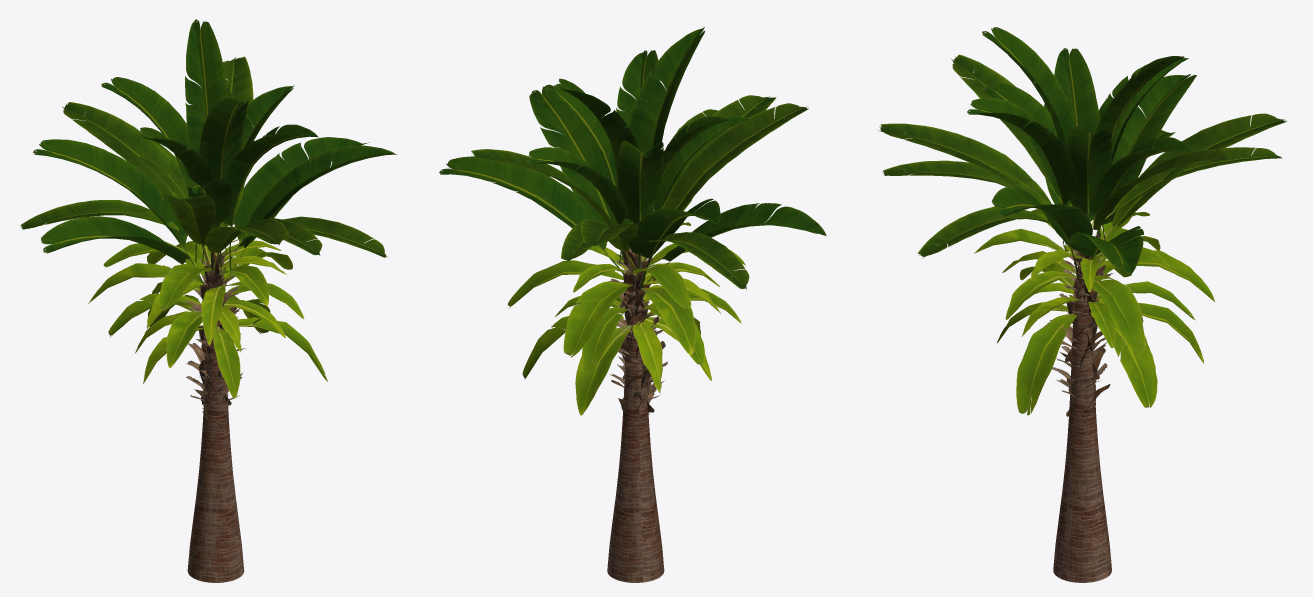
The model's file is e4banana.glb.
3 views of the same model, side by side, from view 1: azimuth 30°, elevation 25°; view 2: azimuth 150°, elevation 25°; view 3: azimuth 270°, elevation 25° (orthographic). The views are drawn at different scales.
Visible parts, largest first — view 1: Cylinder_Huge_Banana_Tree_sl0no0p_0, Cylinder_Banana_Leaves_pgfhf2_0, Cylinder_Huge_Banana_slpmfhp_0, Cylinder_Palm_Bark_tiglajzdy_0, Cylinder_Dead_Fan_sdbcdah2_0; view 2: Cylinder_Huge_Banana_Tree_sl0no0p_0, Cylinder_Banana_Leaves_pgfhf2_0, Cylinder_Huge_Banana_slpmfhp_0, Cylinder_Palm_Bark_tiglajzdy_0, Cylinder_Dead_Fan_sdbcdah2_0; view 3: Cylinder_Huge_Banana_Tree_sl0no0p_0, Cylinder_Banana_Leaves_pgfhf2_0, Cylinder_Huge_Banana_slpmfhp_0, Cylinder_Palm_Bark_tiglajzdy_0, Cylinder_Dead_Fan_sdbcdah2_0.
Boxes of the visible parts, <box> form: Cylinder_Huge_Banana_Tree_sl0no0p_0: <box>33,19,397,290</box>; Cylinder_Banana_Leaves_pgfhf2_0: <box>88,240,327,398</box>; Cylinder_Huge_Banana_slpmfhp_0: <box>20,56,387,271</box>; Cylinder_Palm_Bark_tiglajzdy_0: <box>187,319,244,582</box>; Cylinder_Dead_Fan_sdbcdah2_0: <box>184,248,245,429</box>; Cylinder_Huge_Banana_Tree_sl0no0p_0: <box>439,27,826,289</box>; Cylinder_Banana_Leaves_pgfhf2_0: <box>508,222,745,415</box>; Cylinder_Huge_Banana_slpmfhp_0: <box>471,95,808,289</box>; Cylinder_Palm_Bark_tiglajzdy_0: <box>607,291,664,582</box>; Cylinder_Dead_Fan_sdbcdah2_0: <box>608,248,667,414</box>; Cylinder_Huge_Banana_Tree_sl0no0p_0: <box>967,27,1196,280</box>; Cylinder_Banana_Leaves_pgfhf2_0: <box>974,209,1214,415</box>; Cylinder_Huge_Banana_slpmfhp_0: <box>878,54,1286,257</box>; Cylinder_Palm_Bark_tiglajzdy_0: <box>1053,280,1111,582</box>; Cylinder_Dead_Fan_sdbcdah2_0: <box>1049,232,1113,416</box>.
Size of the model in its own units: 0.7285 by 1 by 0.7231.
5 materials, 5 textured.
